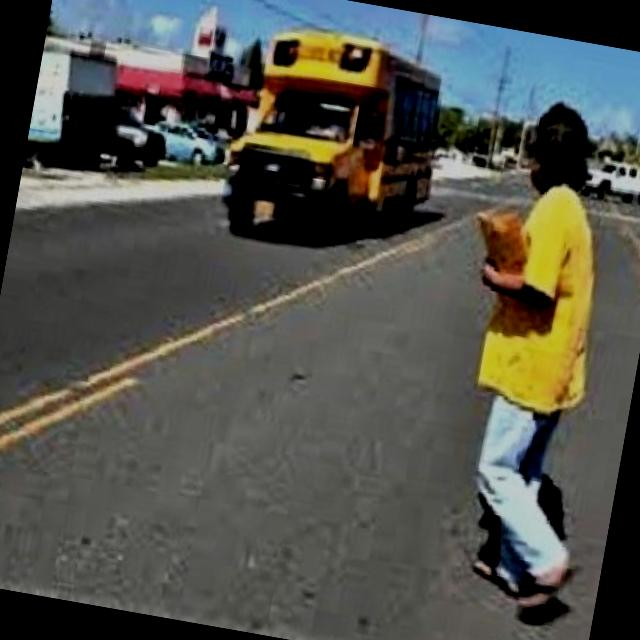Person: (425, 85, 640, 612)
